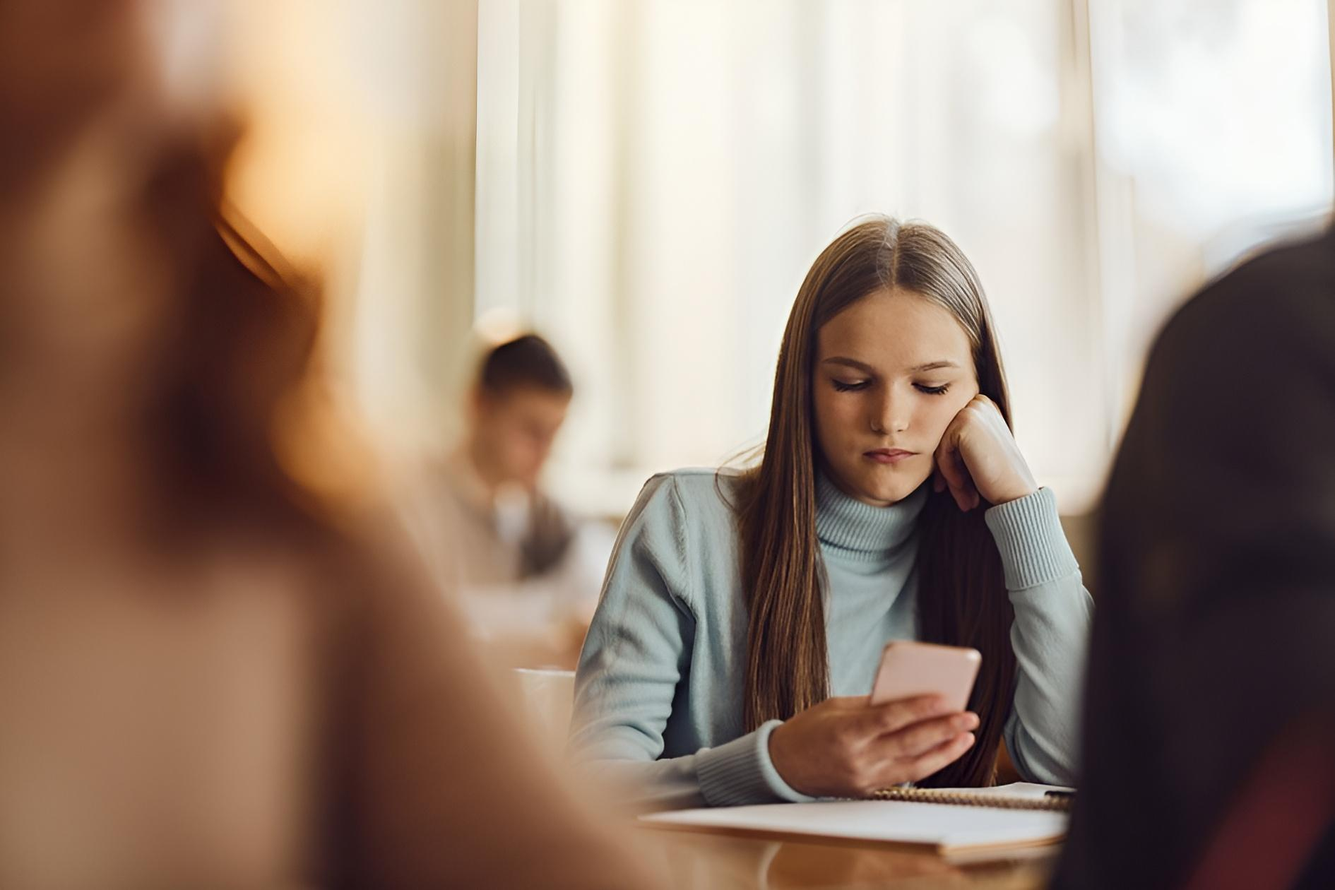phone: (572, 219, 1103, 815)
